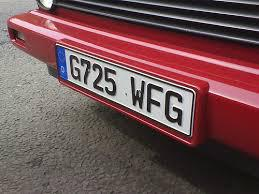2: (93, 61, 104, 92)
5: (103, 65, 118, 96)
7: (80, 58, 90, 84)
F: (145, 82, 164, 115)
G: (164, 90, 184, 126), (69, 54, 81, 81)
W: (130, 77, 146, 109)
